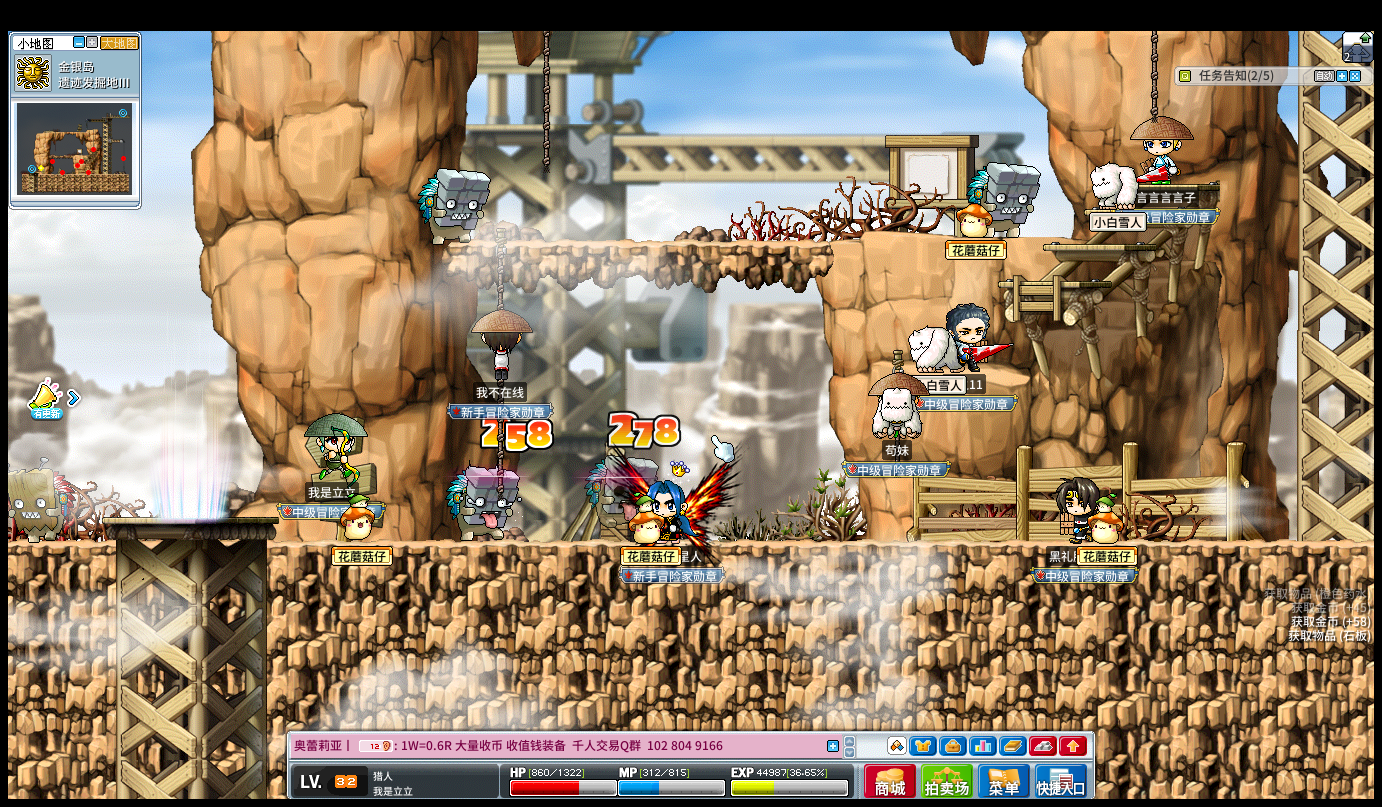floor: (333, 538, 1353, 559), (451, 238, 833, 249), (911, 366, 1033, 382), (102, 515, 281, 525), (996, 279, 1108, 291), (918, 233, 1075, 241), (6, 539, 116, 550), (1041, 244, 1155, 252), (996, 279, 1109, 287)
monster: (416, 167, 489, 244), (5, 461, 75, 541), (444, 465, 516, 542), (970, 162, 1041, 234), (1198, 470, 1259, 541)
rope: (542, 30, 550, 176), (493, 232, 506, 310), (1148, 29, 1157, 118)
